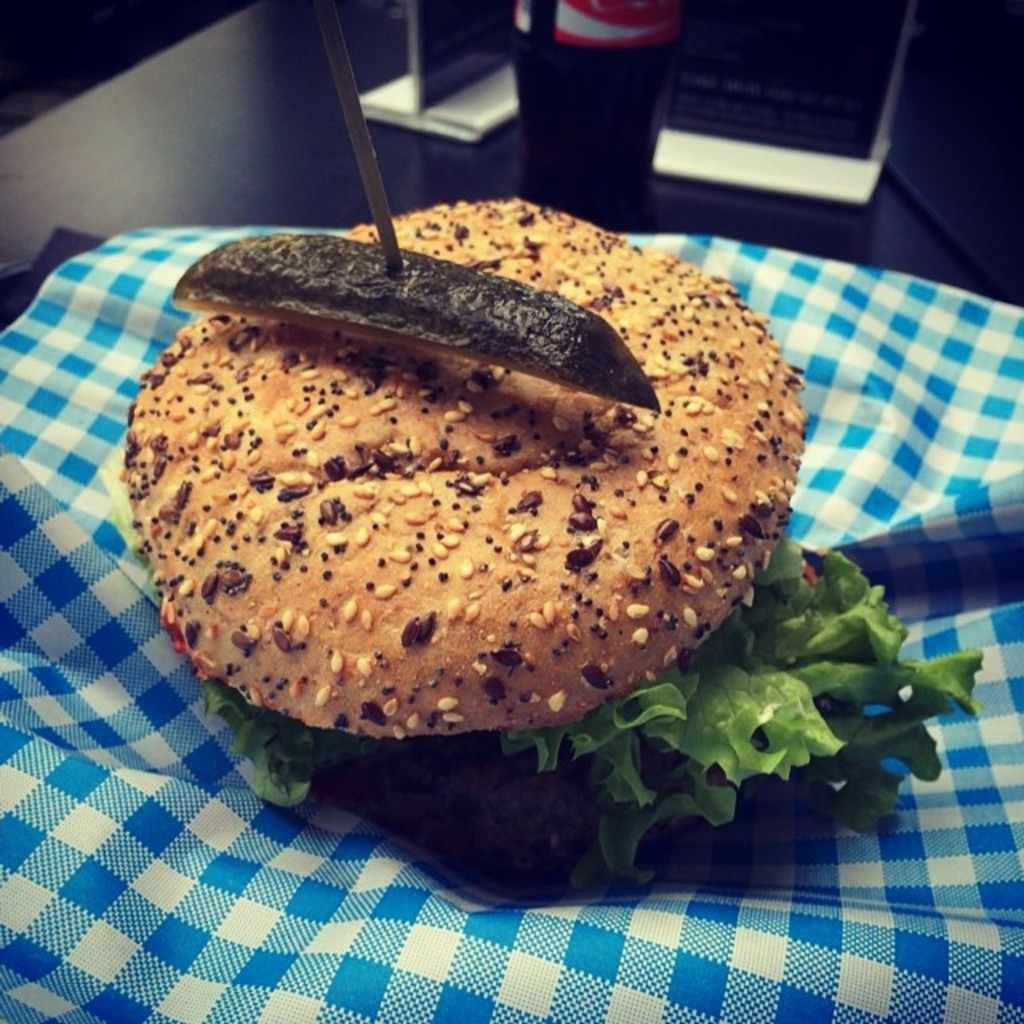Hamburger: (124, 199, 985, 888)
